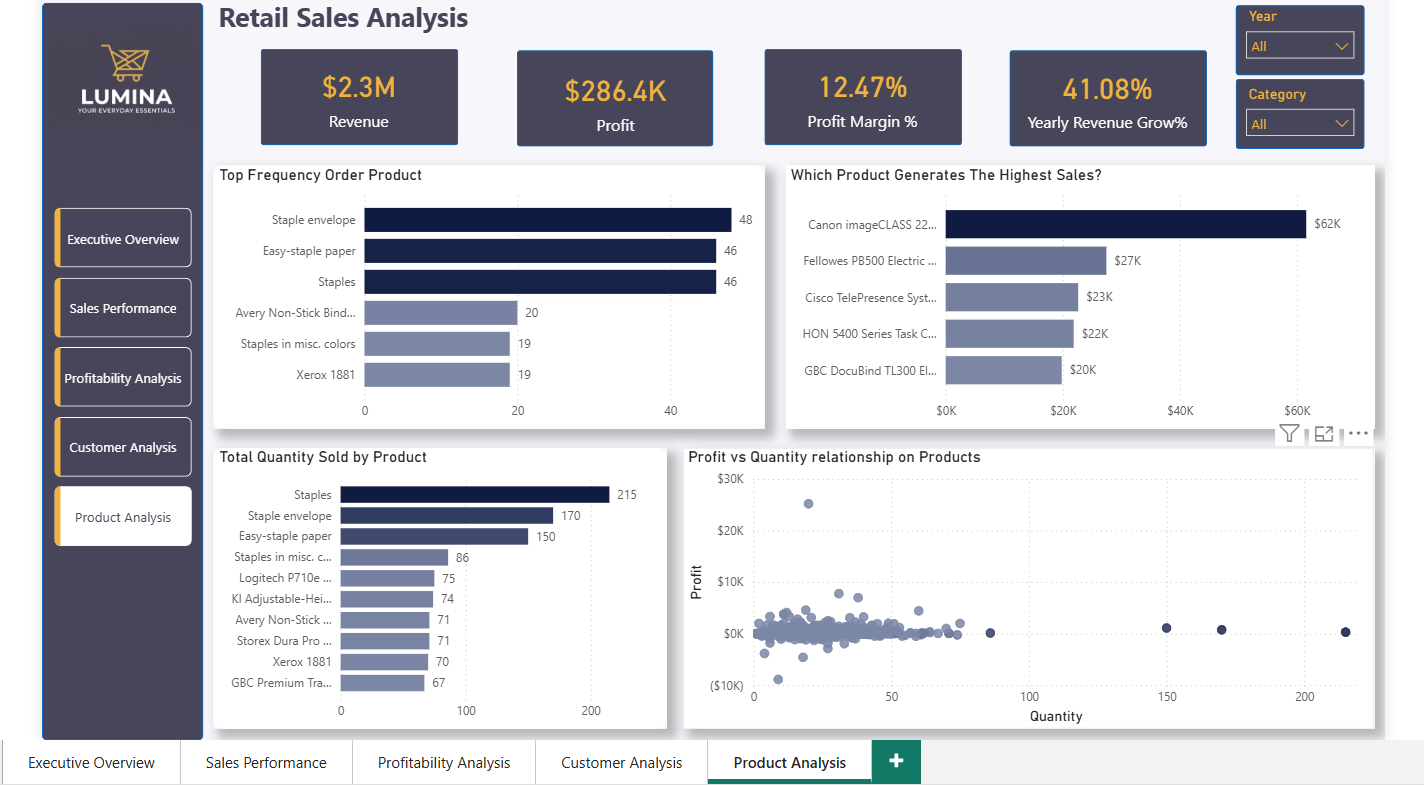

The dashboard page shown, as its layout file describes it:
{"tool":"powerbi","page":{"name":"Product Analysis","canvas":[1350,750],"ordinal":4},"visuals":[{"type":"shape","box":[644.7,456.2,695,282.8],"z":0},{"type":"shape","box":[172.2,172.2,554.3,264.8],"z":1000},{"type":"shape","box":[0,8.8,162.1,741.5],"z":2000},{"type":"pageNavigator","box":[12.4,214.5,138.9,341],"z":3000},{"type":"shape","box":[219.9,55.3,198.6,96.8],"z":5000},{"type":"shape","box":[477.5,56.6,197.3,96.8],"z":6000},{"type":"shape","box":[726.4,55.3,198.6,96.8],"z":7000},{"type":"shape","box":[972.7,56.6,198.6,96.8],"z":8000},{"type":"shape","box":[1200.2,11.3,129.4,70.4],"z":9000},{"type":"textbox","box":[172.4,0,317.4,47.1],"z":10000},{"type":"card","fields":{"Values":["fact_table.total_sale"]},"box":[219.9,55.3,197.3,95.5],"z":11000},{"type":"card","fields":{"Values":["fact_table.total_profit"]},"box":[478.8,59.1,196,95.5],"z":12000},{"type":"card","fields":{"Values":["fact_table.profit_margin"]},"box":[726.4,55.3,197.3,95.5],"z":13000},{"type":"card","fields":{"Values":["dim_customer.yearly_sales_grow %"]},"box":[972.7,56.6,197.3,95.5],"z":14000},{"type":"shape","box":[748.2,172.2,591.9,264.8],"z":15000},{"type":"shape","box":[172.2,456.2,456.2,282.8],"z":16000},{"type":"barChart","title":"Total Quantity Sold by Product","fields":{"Category":["dim_product.product_name"],"Y":["Sum(fact_table.quantity)"]},"box":[173.4,456.2,456.2,282.8],"z":17000},{"type":"barChart","title":"Which Product Generates The Highest Sales?","fields":{"Y":["fact_table.total_sale"],"Category":["dim_product.product_name"]},"box":[747.7,172.2,591.9,265.2],"z":18000},{"type":"barChart","title":"Top Frequency Order Product","fields":{"Y":["fact_table.total_order"],"Category":["dim_product.product_name"]},"box":[173.4,172.2,553,265.2],"z":19000},{"type":"slicer","fields":{"Values":["dim_date.Date.Variation.Date Hierarchy.Year"]},"box":[1200.2,8.8,129.4,69.1],"z":20000},{"type":"shape","box":[1200.2,85.5,129.4,70.4],"z":21000},{"type":"slicer","fields":{"Values":["dim_product.category"]},"box":[1200.2,86.7,129.4,69.1],"z":22000},{"type":"scatterChart","title":"Profit vs Quantity relationship on Products","fields":{"X":["fact_table.total_quantity_sold"],"Category":["dim_product.product_name"],"Y":["fact_table.total_profit"]},"box":[644.7,456.2,695,282.8],"z":23000},{"type":"image","box":[6.3,18.9,152.1,134.5],"z":23001}]}

Visuals, with their boxes in screenshot pixels (x1, y1, x2, y2), scaled from the page's 1350x750 canvas onto the 1424x785 screenshot:
shape: {"x1": 680, "y1": 477, "x2": 1413, "y2": 773}
shape: {"x1": 182, "y1": 180, "x2": 766, "y2": 457}
shape: {"x1": 0, "y1": 9, "x2": 171, "y2": 784}
pageNavigator: {"x1": 13, "y1": 225, "x2": 160, "y2": 581}
shape: {"x1": 232, "y1": 58, "x2": 441, "y2": 159}
shape: {"x1": 504, "y1": 59, "x2": 712, "y2": 161}
shape: {"x1": 766, "y1": 58, "x2": 976, "y2": 159}
shape: {"x1": 1026, "y1": 59, "x2": 1236, "y2": 161}
shape: {"x1": 1266, "y1": 12, "x2": 1402, "y2": 86}
textbox: {"x1": 182, "y1": 0, "x2": 517, "y2": 49}
card - fact_table.total_sale: {"x1": 232, "y1": 58, "x2": 440, "y2": 158}
card - fact_table.total_profit: {"x1": 505, "y1": 62, "x2": 712, "y2": 162}
card - fact_table.profit_margin: {"x1": 766, "y1": 58, "x2": 974, "y2": 158}
card - dim_customer.yearly_sales_grow %: {"x1": 1026, "y1": 59, "x2": 1234, "y2": 159}
shape: {"x1": 789, "y1": 180, "x2": 1414, "y2": 457}
shape: {"x1": 182, "y1": 477, "x2": 663, "y2": 773}
"Total Quantity Sold by Product" barChart: {"x1": 183, "y1": 477, "x2": 664, "y2": 773}
"Which Product Generates The Highest Sales?" barChart: {"x1": 789, "y1": 180, "x2": 1413, "y2": 458}
"Top Frequency Order Product" barChart: {"x1": 183, "y1": 180, "x2": 766, "y2": 458}
slicer - dim_date.Date.Variation.Date Hierarchy.Year: {"x1": 1266, "y1": 9, "x2": 1402, "y2": 82}
shape: {"x1": 1266, "y1": 89, "x2": 1402, "y2": 163}
slicer - dim_product.category: {"x1": 1266, "y1": 91, "x2": 1402, "y2": 163}
"Profit vs Quantity relationship on Products" scatterChart: {"x1": 680, "y1": 477, "x2": 1413, "y2": 773}
image: {"x1": 7, "y1": 20, "x2": 167, "y2": 161}
